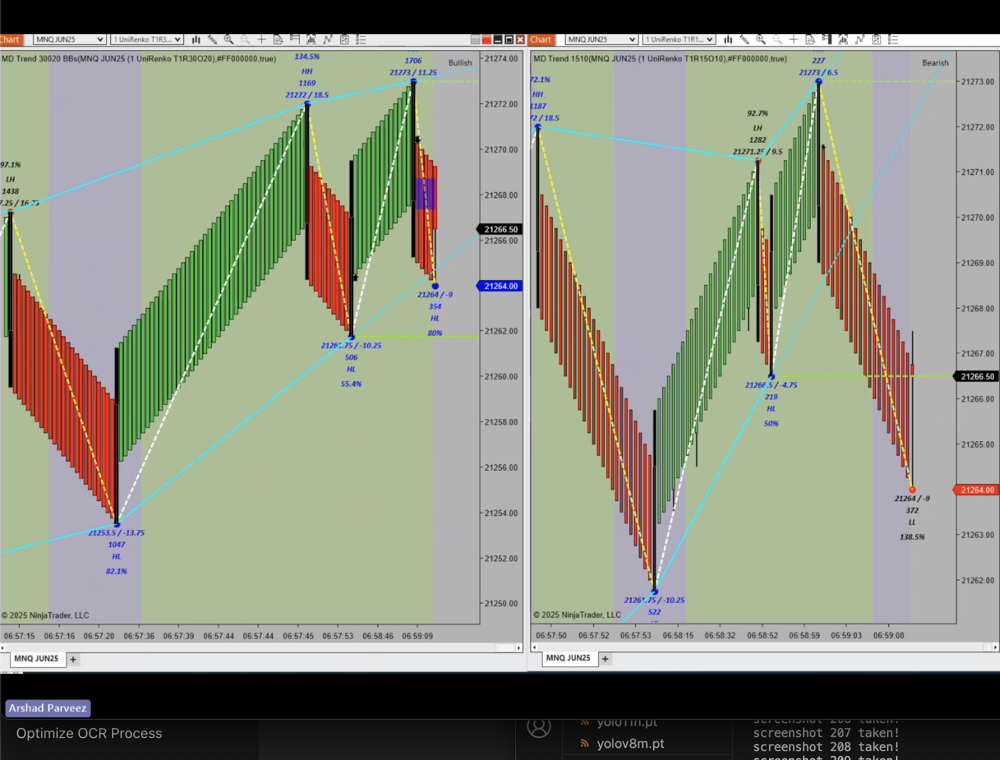HH: (526, 85, 556, 106), (295, 65, 320, 77)
HL: (760, 399, 788, 422), (340, 357, 364, 378), (107, 547, 131, 567), (423, 312, 447, 326)
LH: (1, 167, 23, 186), (749, 122, 773, 137)
LL: (904, 515, 926, 533)
